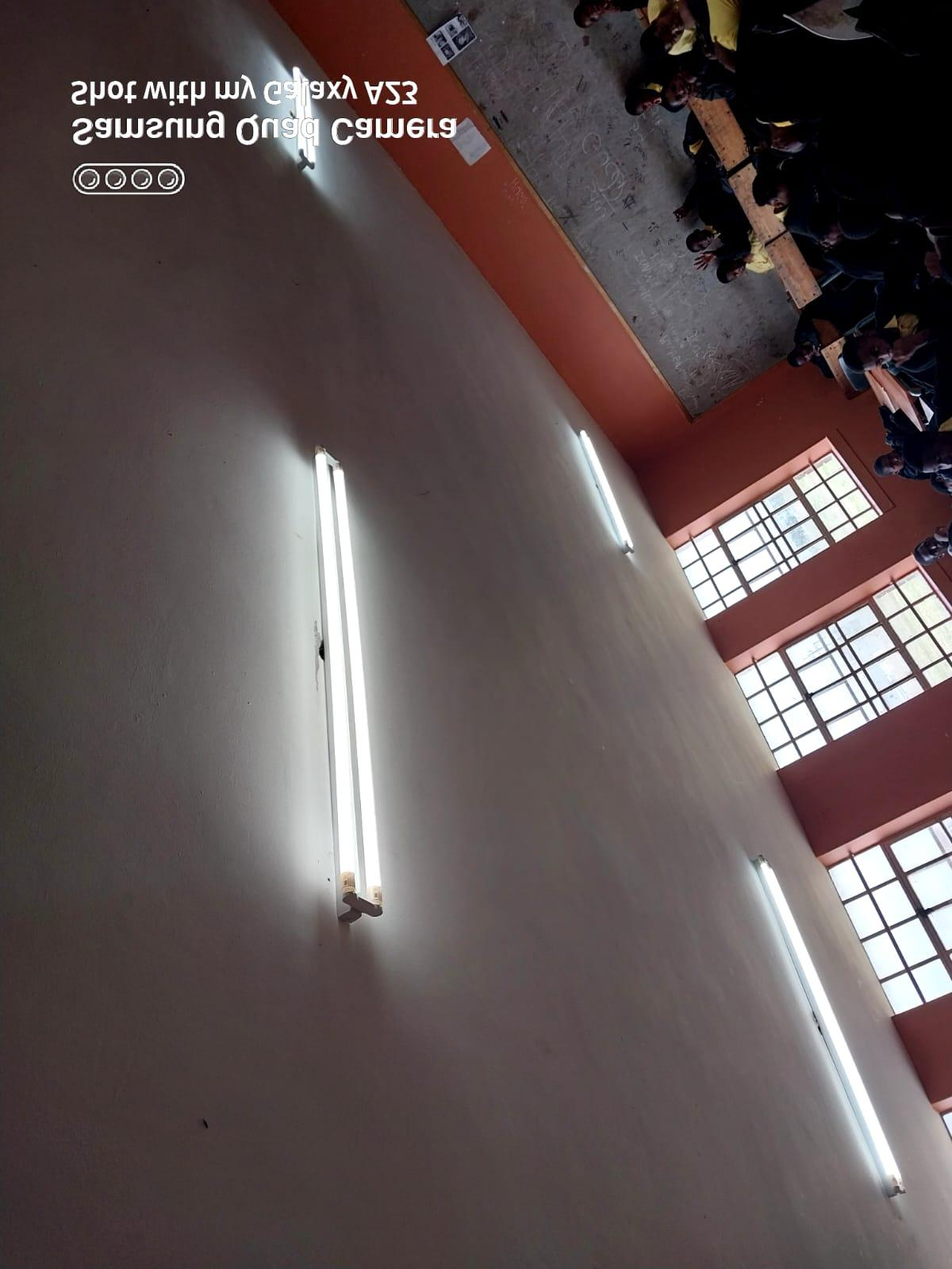light: (751, 854, 906, 1198), (313, 444, 383, 922), (577, 427, 634, 556)
